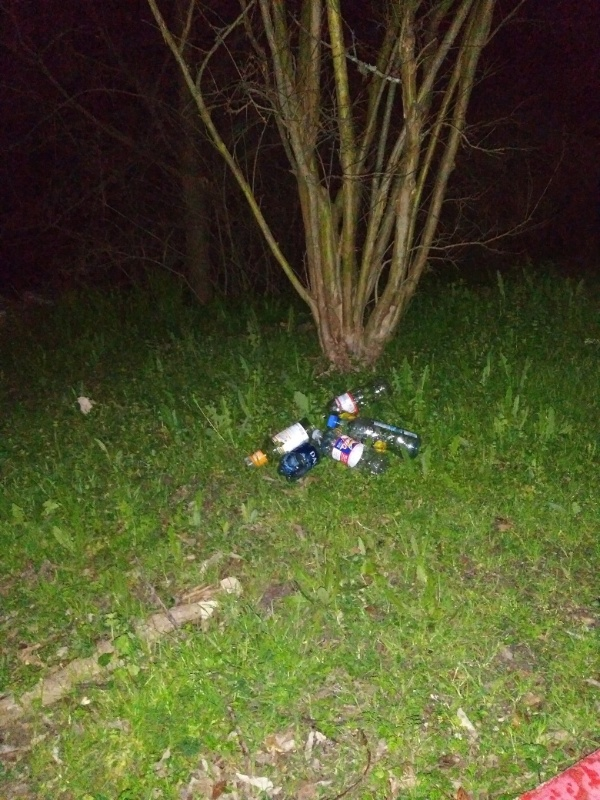bottle: (239, 412, 321, 470), (325, 413, 424, 461), (320, 372, 398, 425), (310, 428, 389, 477), (275, 437, 339, 483)
